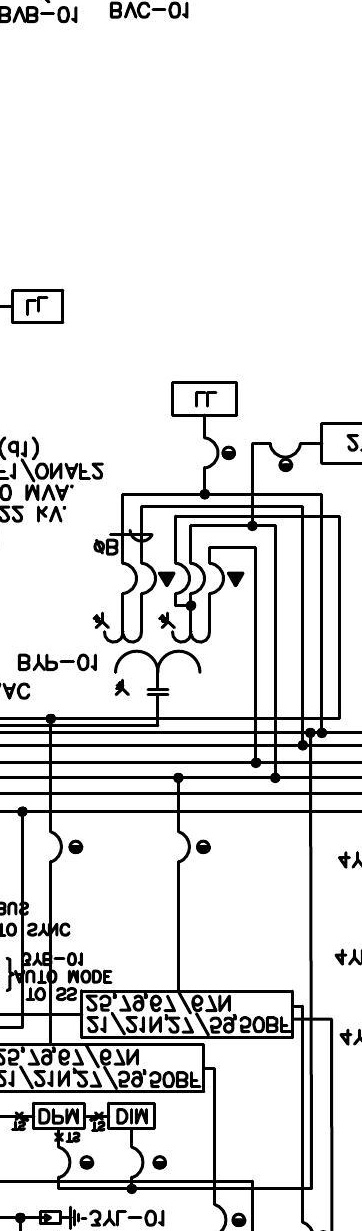115_cvt_3p: (92, 611, 212, 696)
DIM: (107, 1102, 157, 1131)
DPM: (32, 1102, 87, 1131)
LL: (171, 381, 238, 417), (11, 288, 64, 324)
